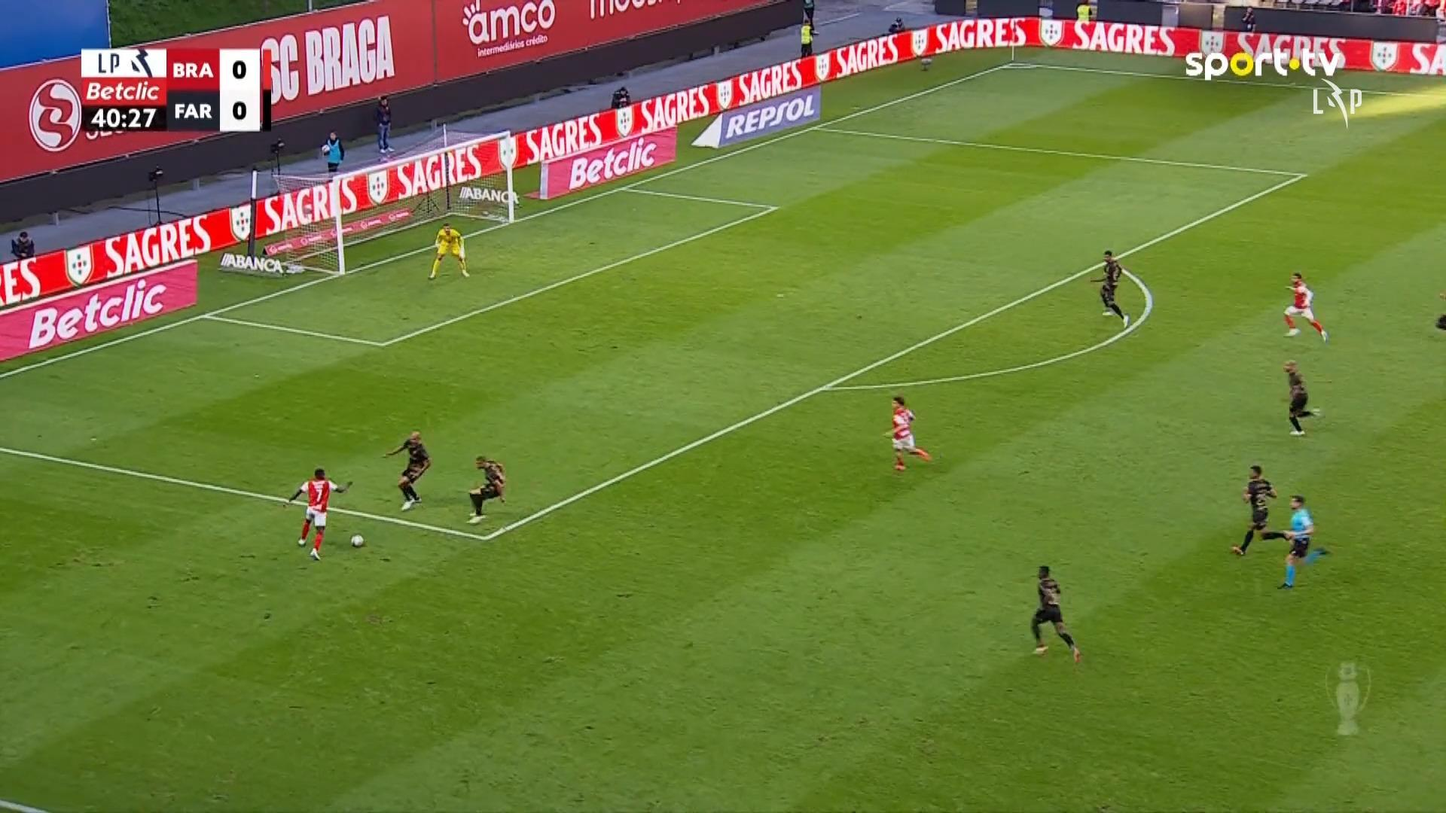ball: (350, 534, 364, 547)
goalkeeper: (427, 222, 470, 280)
player: (282, 466, 352, 561), (1229, 464, 1292, 556), (1030, 564, 1081, 663), (381, 429, 431, 511), (883, 394, 932, 470), (1282, 271, 1329, 343), (1089, 248, 1130, 328), (1282, 359, 1323, 436), (465, 455, 507, 525)
referee: (1277, 493, 1330, 589)
